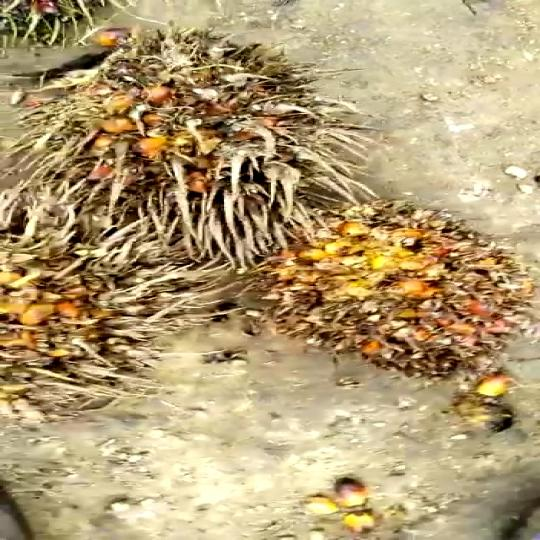terlalu masak: (0, 28, 339, 225), (208, 195, 540, 377)
